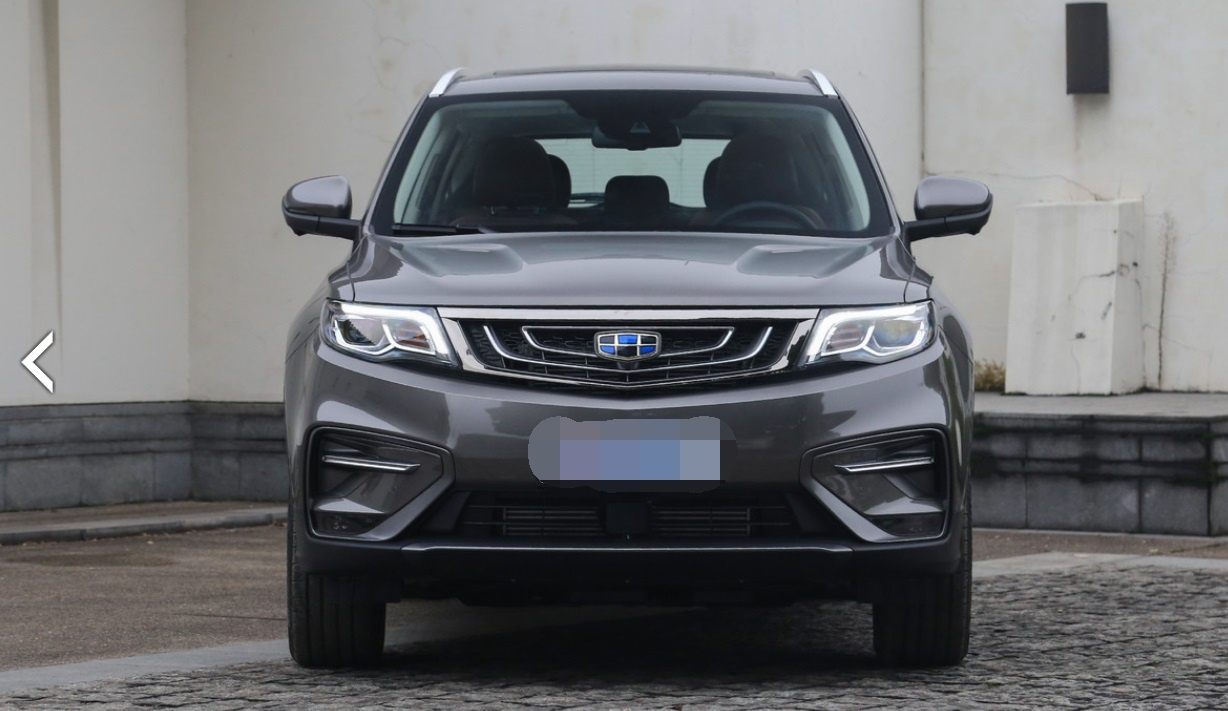SUV: (254, 55, 1008, 687)
